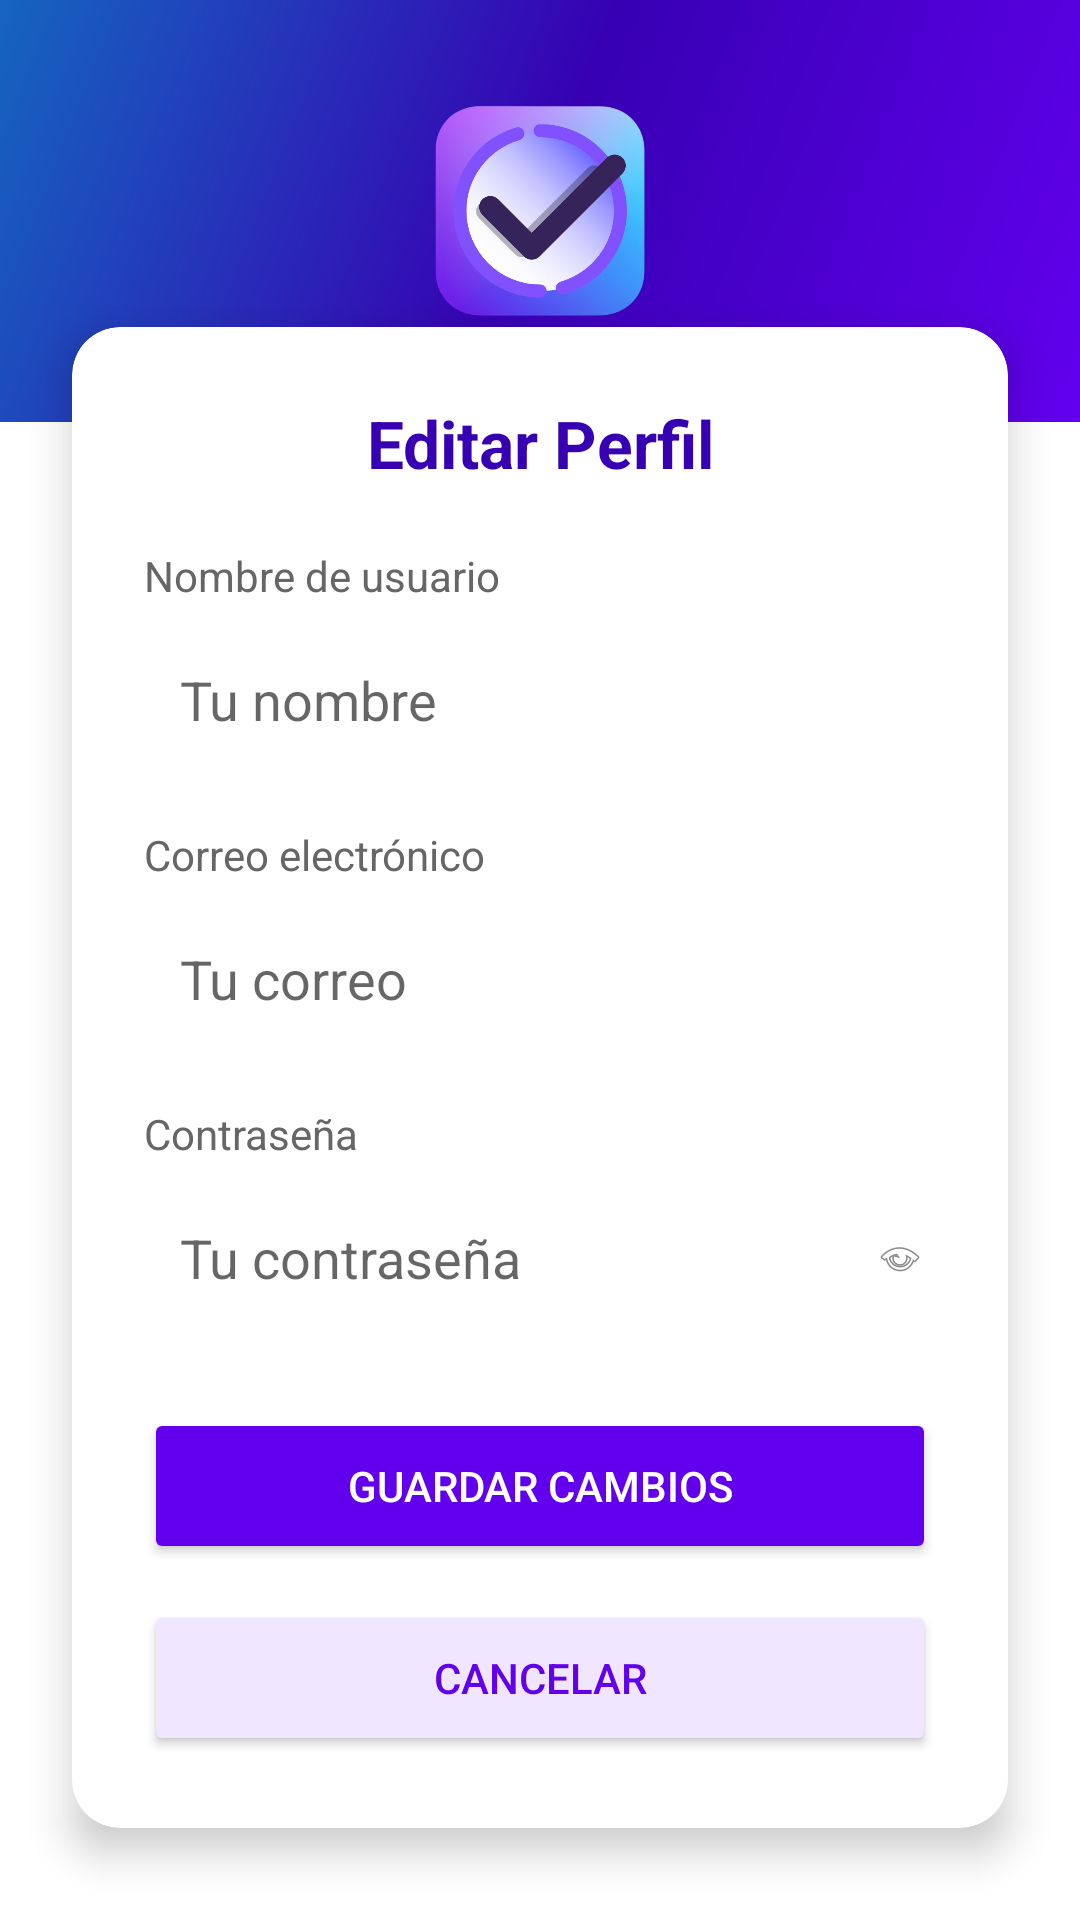

Screen size 1080px×1920px. Icon name, then its box in pixels as (x1, y1, x2, y2):
view: (880, 1247, 920, 1272)
